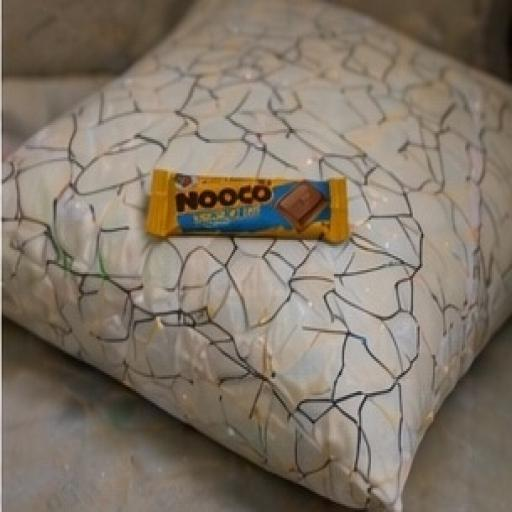nooco: (126, 139, 372, 280)
